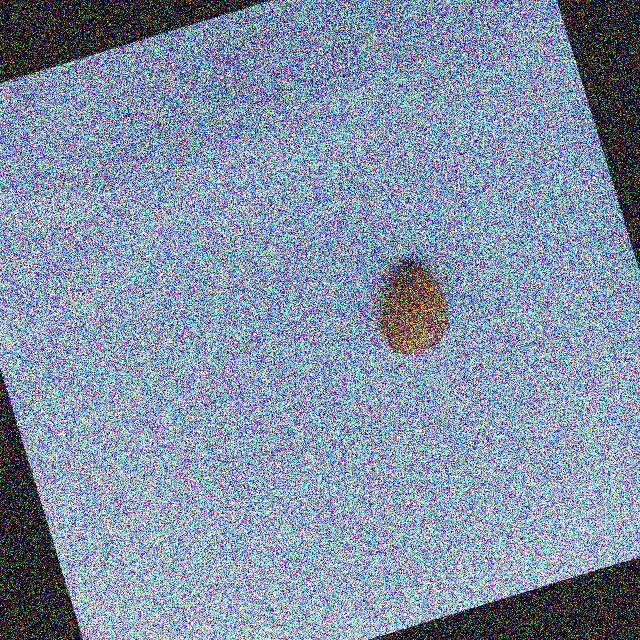grade2: (358, 251, 462, 366)
